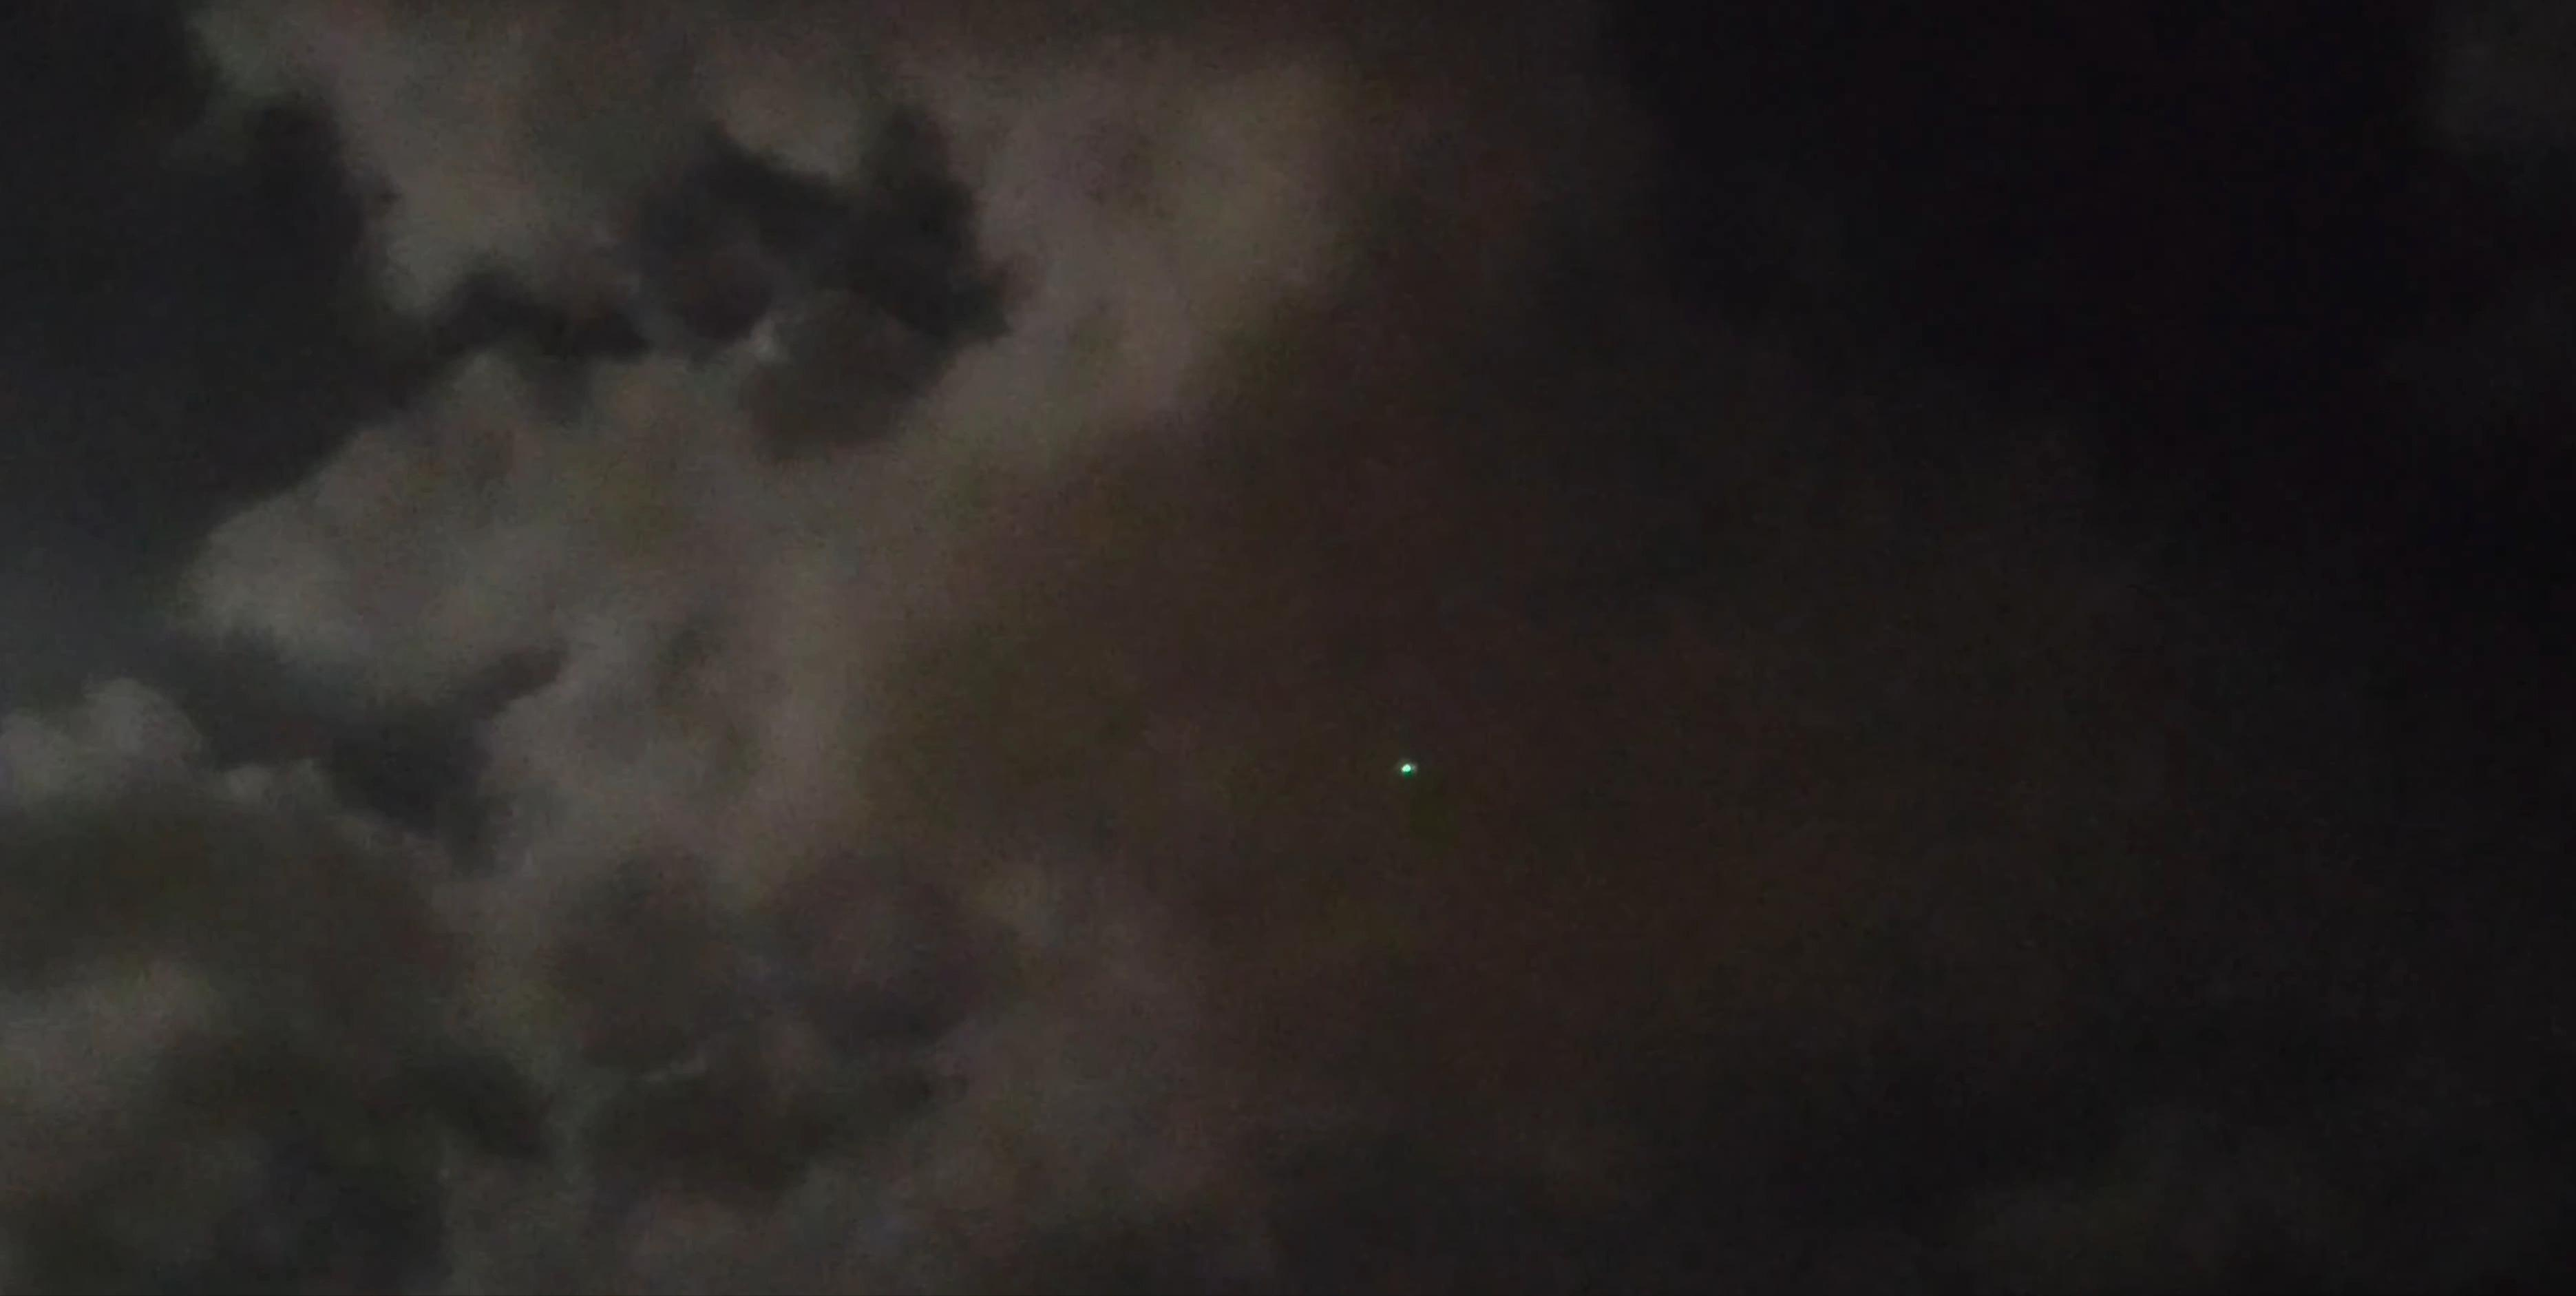Plane: (1380, 746, 1436, 793)
